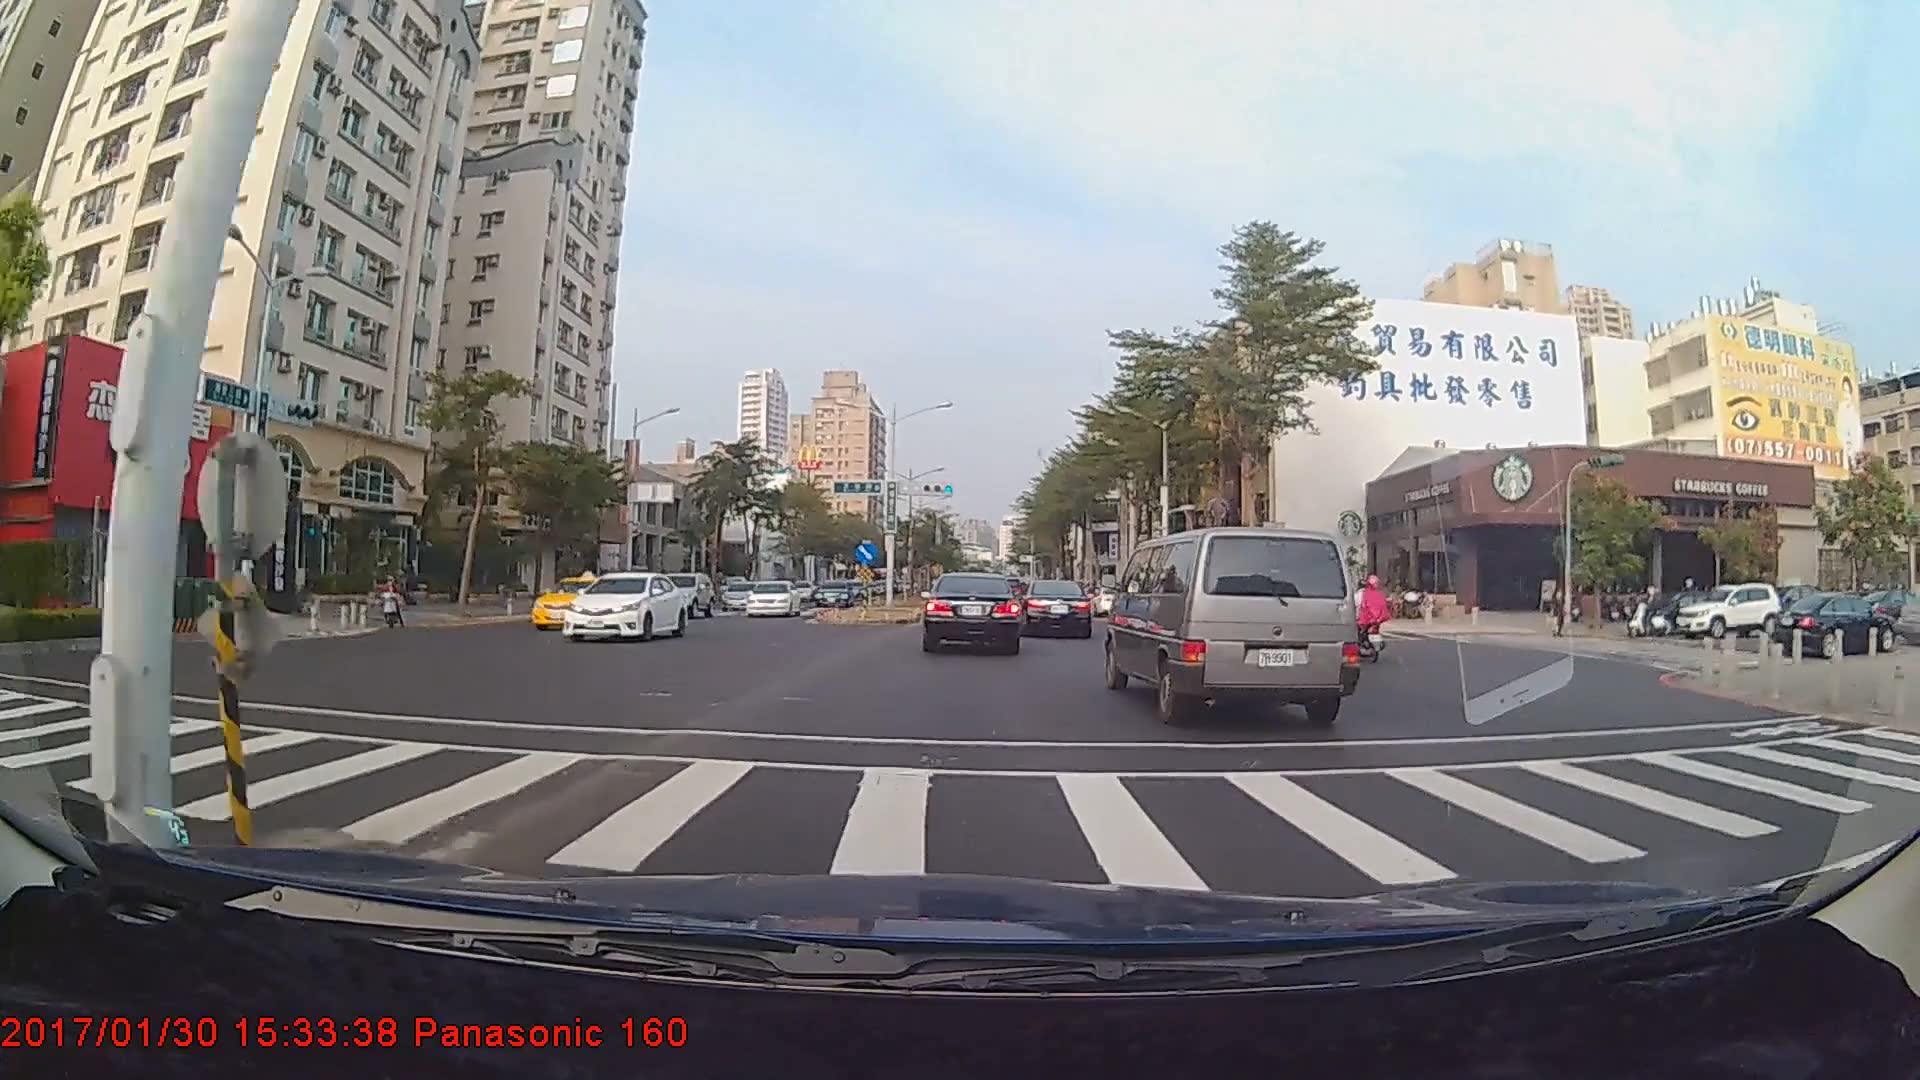rider: (1628, 581, 1673, 642)
vehicle: (1106, 521, 1352, 725), (559, 569, 688, 643), (1761, 583, 1897, 652), (921, 572, 1023, 654), (1673, 585, 1783, 638), (529, 575, 628, 633), (1017, 578, 1093, 638), (651, 572, 713, 619), (743, 581, 799, 618), (814, 581, 856, 608)
